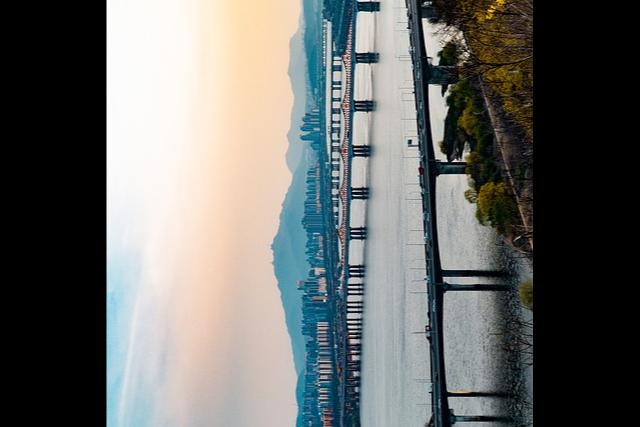Non_Gorille: (166, 0, 504, 427)
